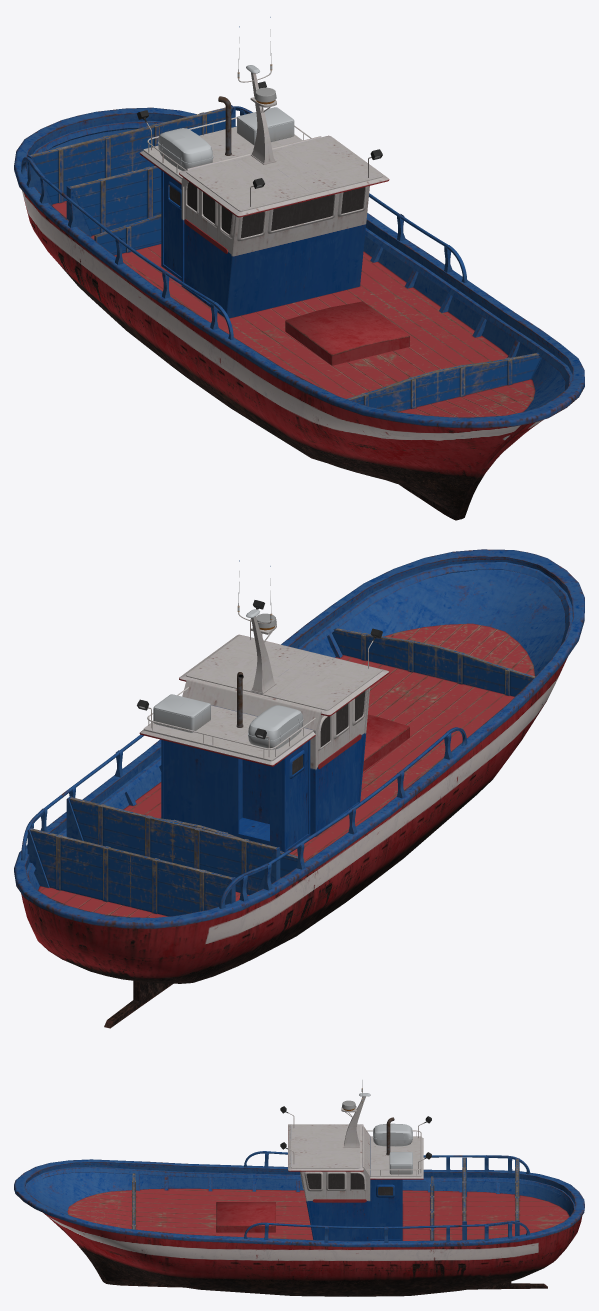
Rendered from Boat06.dae.
3 renders of one model, top to bottom at view 1: azimuth 30°, elevation 25°; view 2: azimuth 150°, elevation 25°; view 3: azimuth 270°, elevation 25°, orthographic. The views are drawn at different scales.
Parts seen in each view (by area): view 1: Trawler; view 2: Trawler; view 3: Trawler.
Part boxes in pixels (x1=…): Trawler: x1=14, y1=17, x2=584, y2=520; Trawler: x1=14, y1=549, x2=584, y2=1028; Trawler: x1=14, y1=1080, x2=584, y2=1296.
Size of the model in its own units: 500 by 702 by 1598.
Materials: 1 (1 with a texture image).
